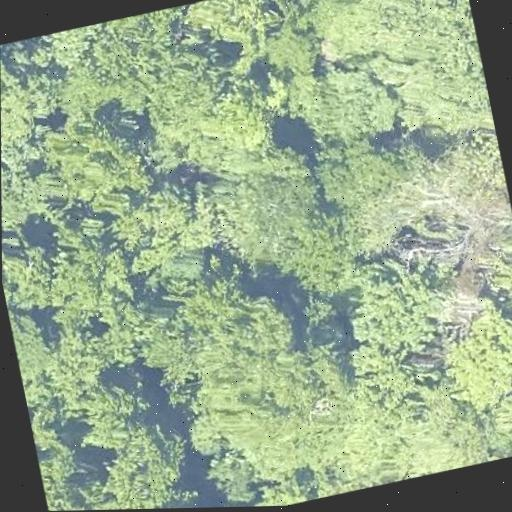tree-top: (215, 347, 394, 504), (154, 263, 306, 414), (331, 0, 492, 141), (53, 4, 210, 133), (202, 141, 335, 276), (157, 74, 281, 189), (109, 170, 225, 284), (313, 123, 434, 232), (342, 254, 459, 364), (42, 107, 155, 219), (289, 52, 402, 155), (36, 228, 138, 335), (385, 382, 495, 481), (94, 415, 200, 510), (410, 128, 510, 218), (434, 305, 512, 417), (71, 373, 157, 459), (29, 317, 112, 404), (182, 0, 288, 60), (0, 37, 56, 148), (1, 128, 58, 223), (2, 220, 56, 314), (7, 296, 60, 384), (34, 429, 90, 511), (471, 213, 512, 318), (242, 468, 335, 507), (48, 491, 128, 511), (124, 495, 214, 509), (287, 0, 404, 4)
